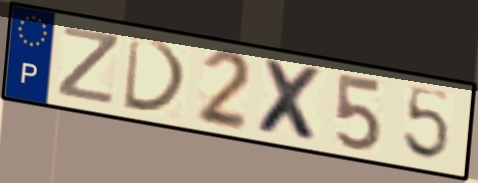2: (196, 47, 255, 133)
5: (331, 69, 388, 154), (398, 82, 454, 163)
D: (120, 32, 191, 117)
X: (253, 55, 327, 147)
Z: (54, 23, 124, 108)
